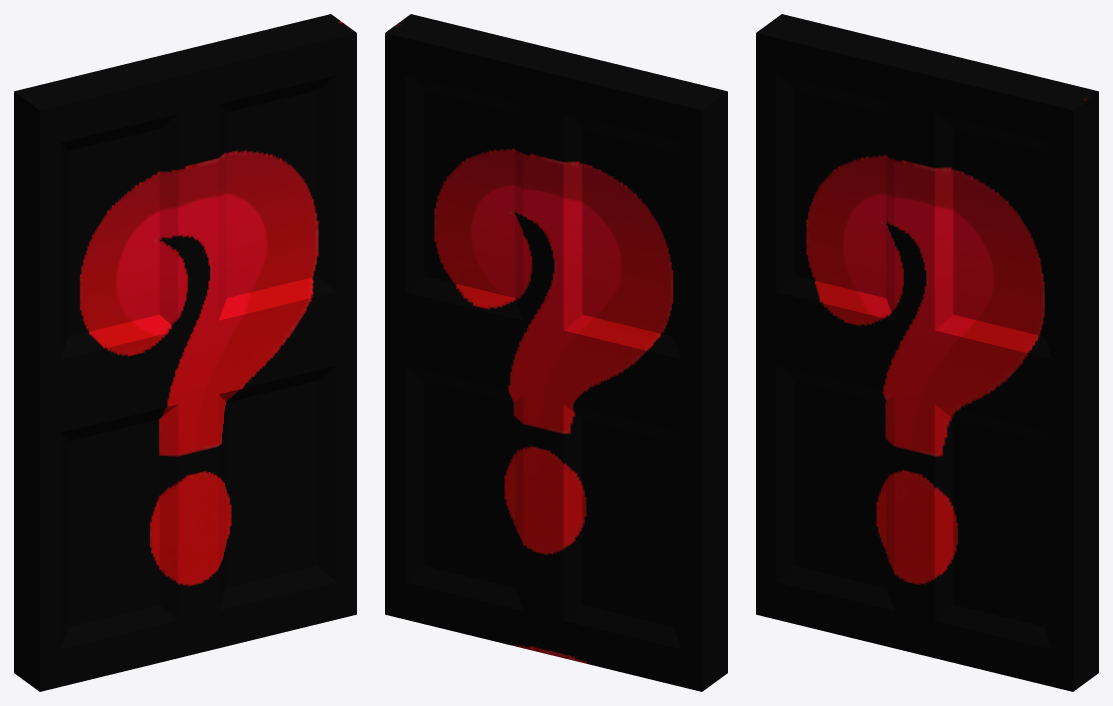
3 renders of one model, left to right at view 1: azimuth 30°, elevation 25°; view 2: azimuth 150°, elevation 25°; view 3: azimuth 330°, elevation 25°, orthographic.
Visible parts, largest first — view 1: DoorObj2; view 2: DoorObj2; view 3: DoorObj2.
Boxes of the visible parts, x1,y1,x2,y2 form: DoorObj2: [14, 14, 356, 691]; DoorObj2: [385, 14, 727, 691]; DoorObj2: [756, 14, 1098, 691].
Bounding box in the file's own units: 1.98 × 3.47 × 0.2803.
Materials: 1 (1 with a texture image).
